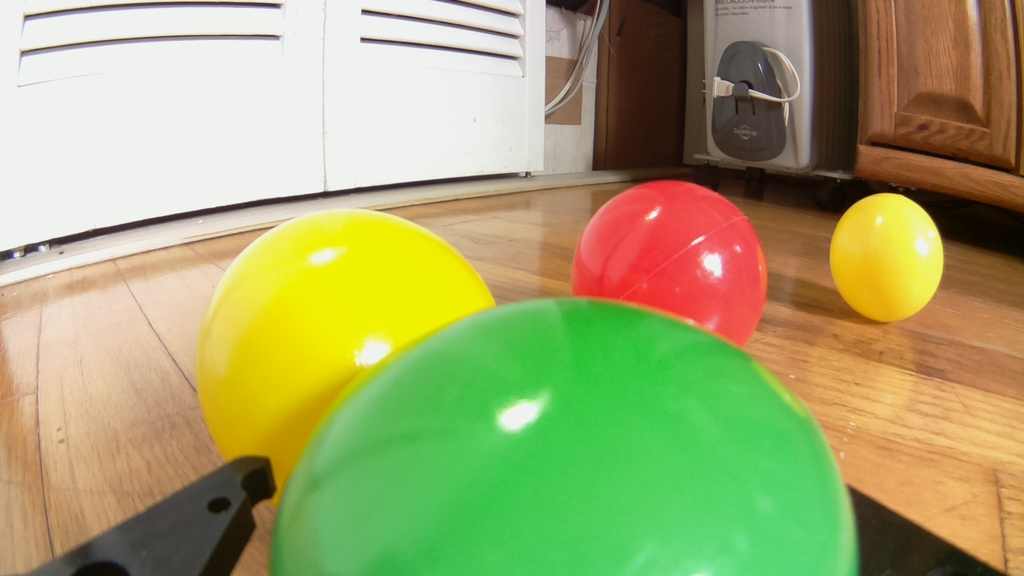ball: (570, 178, 771, 352)
